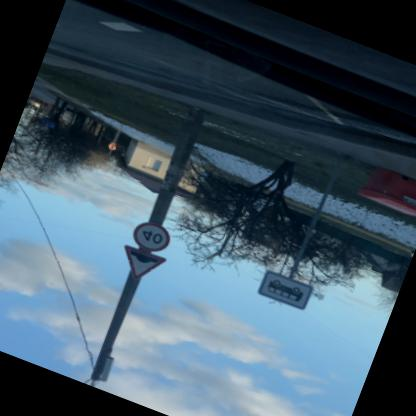speedlimit: (126, 216, 172, 256)
